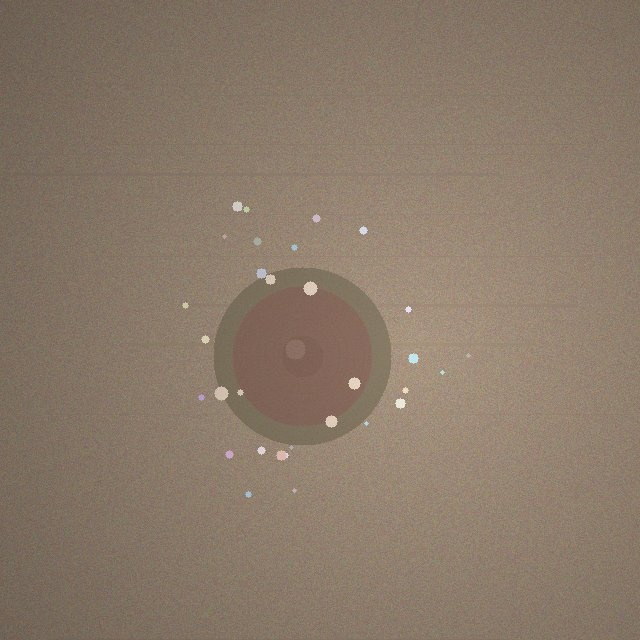overburn: (213, 267, 391, 445)
